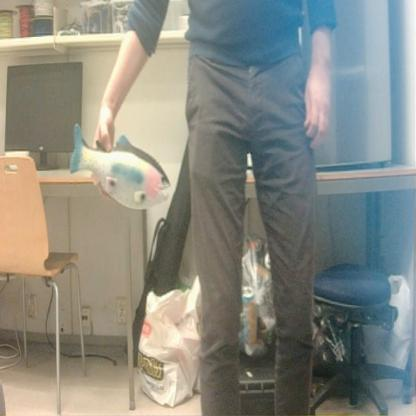rubberfish: (67, 115, 174, 214)
